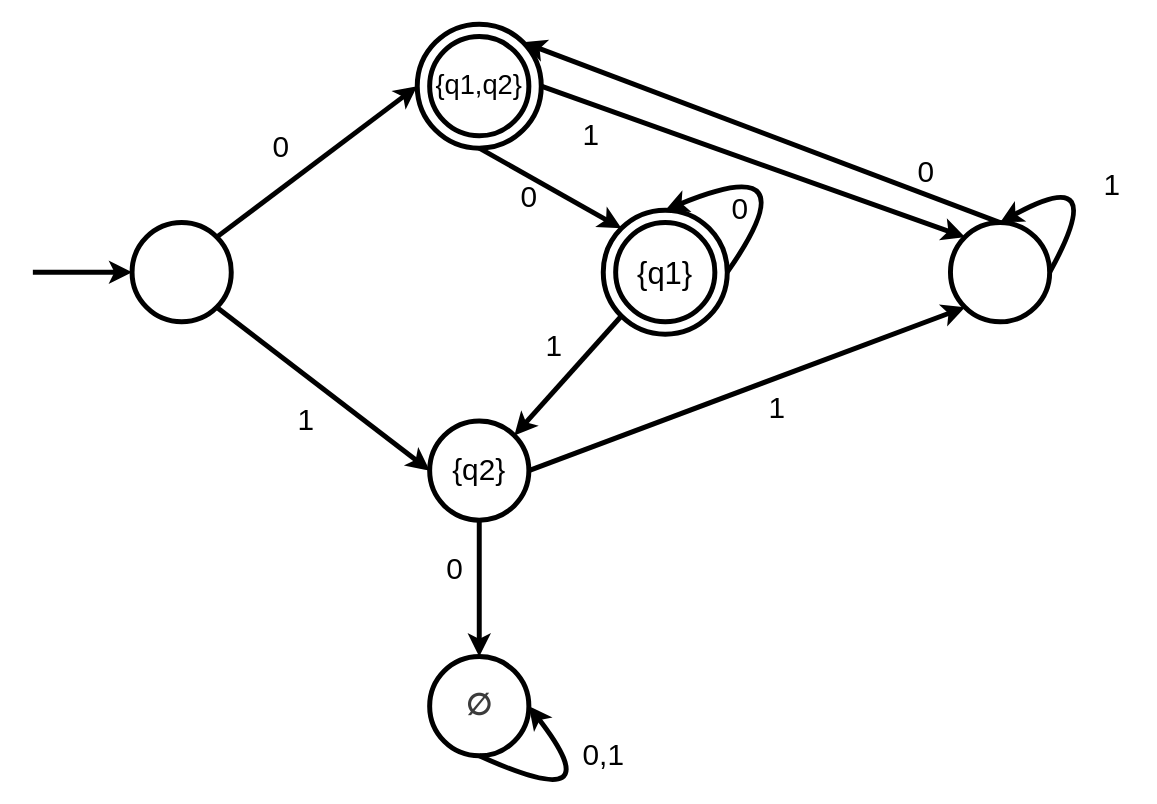
This 1157x804 diagram has some shape labels left out. The shapes that lost their labels are listed below. From the top down, each one's centre as x and y in pixels, then its label:
(x=181, y=271): {q0}
(x=999, y=271): {q0,q2}
